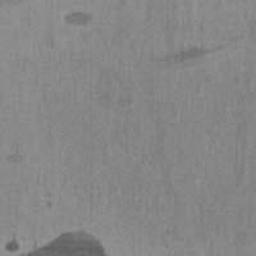Oil spot: (150, 35, 244, 72), (4, 229, 110, 256), (64, 8, 96, 28), (5, 141, 29, 165), (0, 0, 26, 9), (44, 192, 56, 211), (230, 0, 256, 6)
